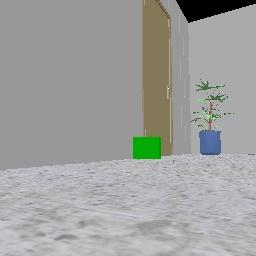planta: (191, 79, 233, 154)
verde: (133, 137, 160, 158)
